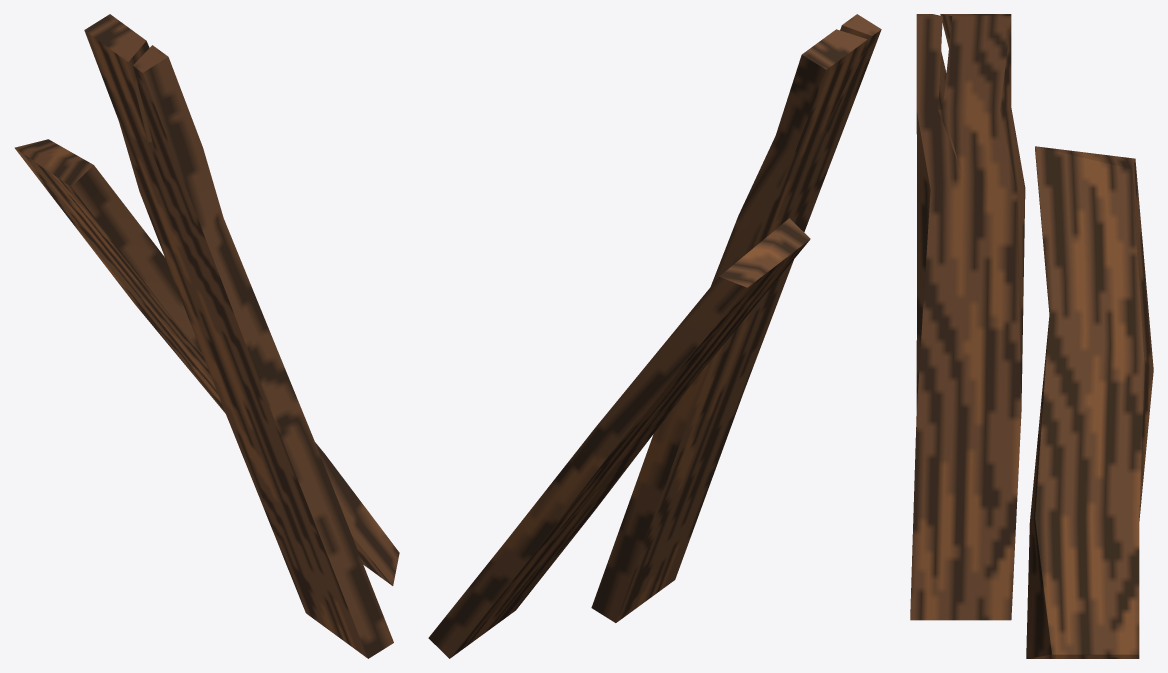
Rendered from Building_Extras2.fbx.
3 views of the same model, side by side, from view 1: azimuth 30°, elevation 25°; view 2: azimuth 150°, elevation 25°; view 3: azimuth 270°, elevation 25° (orthographic). The views are drawn at different scales.
Parts seen in each view (by area): view 1: Big Building.001; view 2: Big Building.001; view 3: Big Building.001.
Boxes of the visible parts, <box> form: Big Building.001: <box>14,14,399,658</box>; Big Building.001: <box>428,14,881,658</box>; Big Building.001: <box>910,14,1153,658</box>.
Size of the model in its own units: 31.46 by 57.43 by 24.04.
